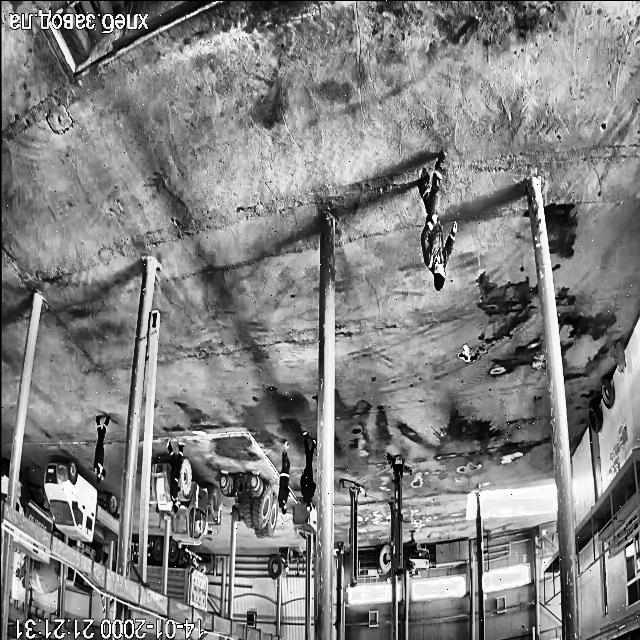car lift: (388, 454, 411, 575), (345, 479, 365, 586)
fire extinguisher: (614, 340, 624, 372)
mechanic: (416, 150, 456, 291), (166, 439, 184, 512), (300, 431, 316, 510), (93, 415, 110, 484), (277, 443, 289, 515), (20, 468, 29, 514)
tractor: (151, 459, 220, 544), (220, 475, 277, 538)
truck: (44, 460, 118, 540), (167, 539, 208, 612), (14, 486, 52, 532), (16, 557, 60, 594), (147, 537, 164, 591), (12, 537, 48, 562), (69, 541, 105, 563), (65, 567, 92, 595), (130, 541, 140, 580), (0, 461, 8, 500)
